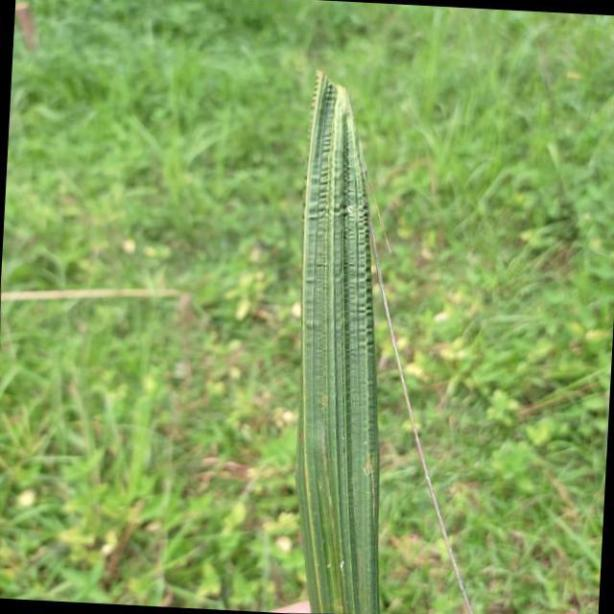Boron: (299, 62, 377, 614)
